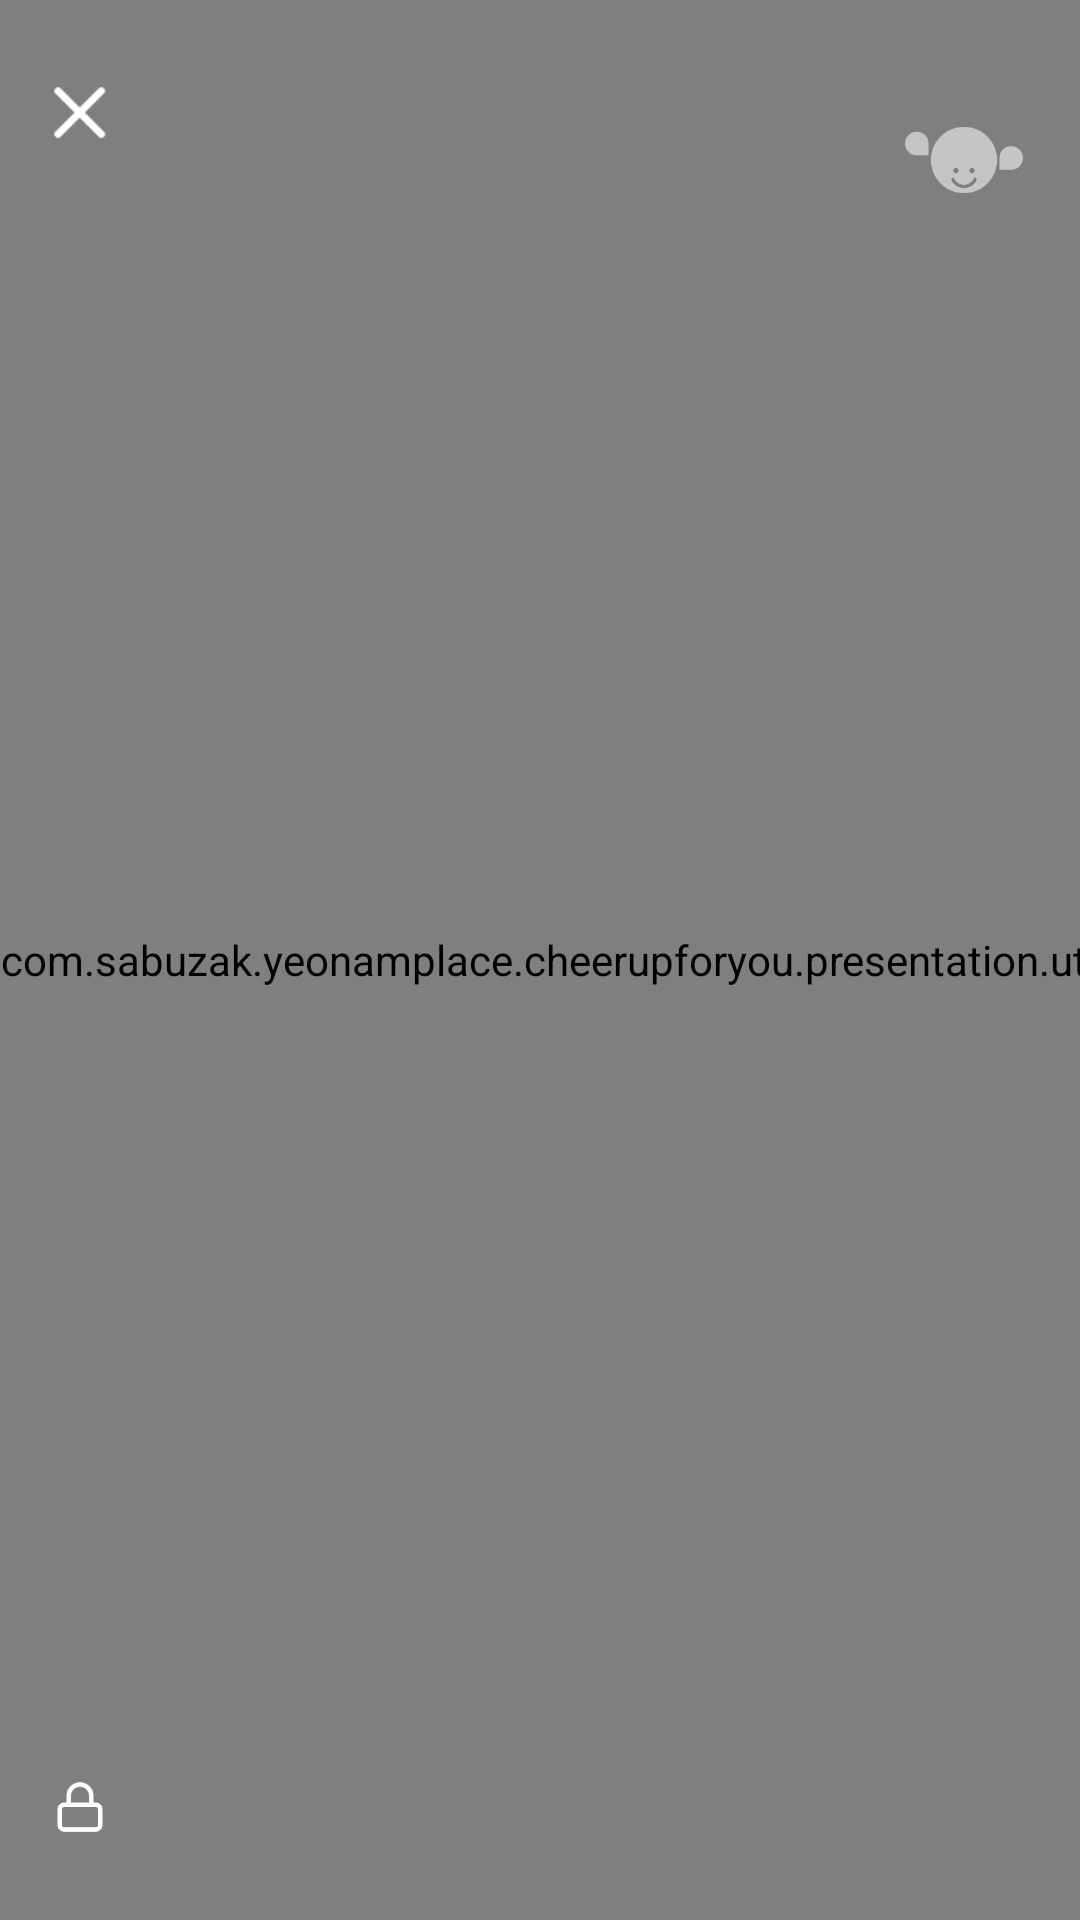

Where to tap for icons on this 1080 × 1920 app screen, as (x,y):
character: (964,160)
delete: (80,113)
lock: (80,1807)
